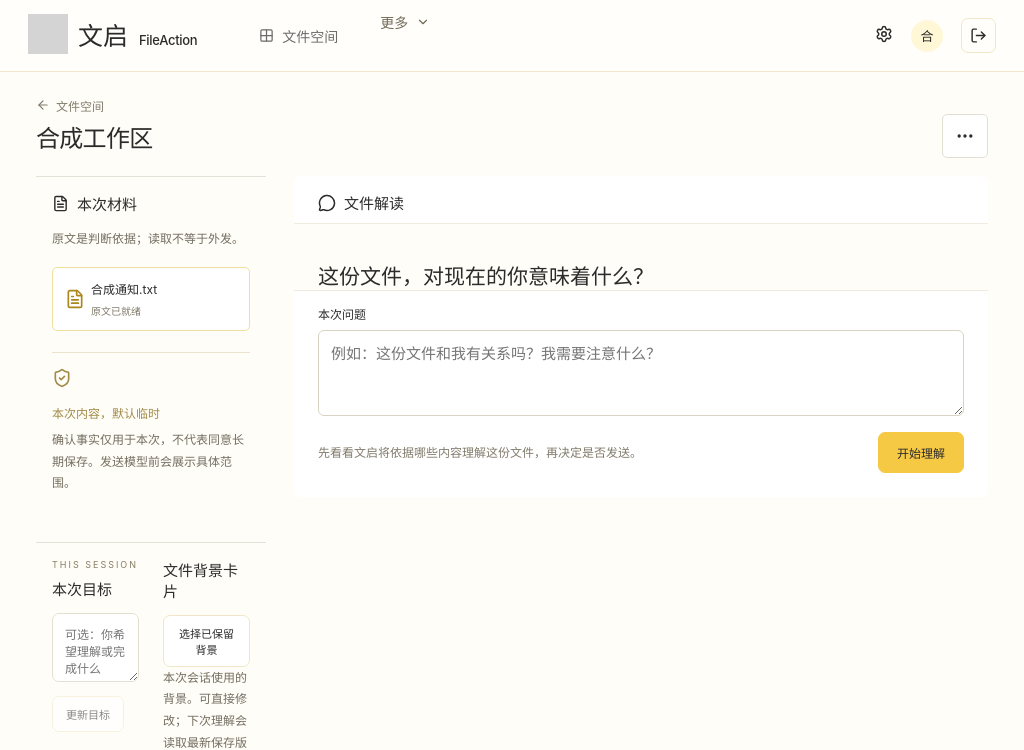
Test case: 真实阶段轮询完成后展示来源、推断、未知和待确认建议，不自动写入
The image size is (1024, 750).
Type "合成运行问题" into the text box labelled "本次问题". click: (641, 373)
box: [318,330,964,416]
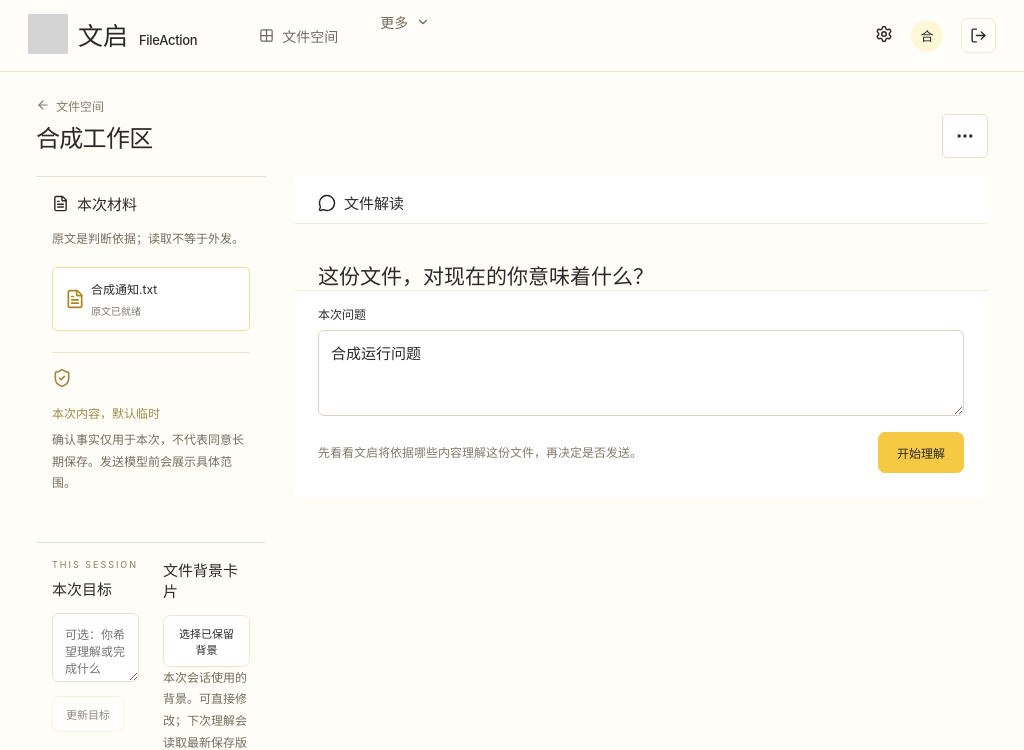
Click the button with aria-label "预览外发内容". click: click(921, 453)
box: [878,432,964,473]
(page scrolled)
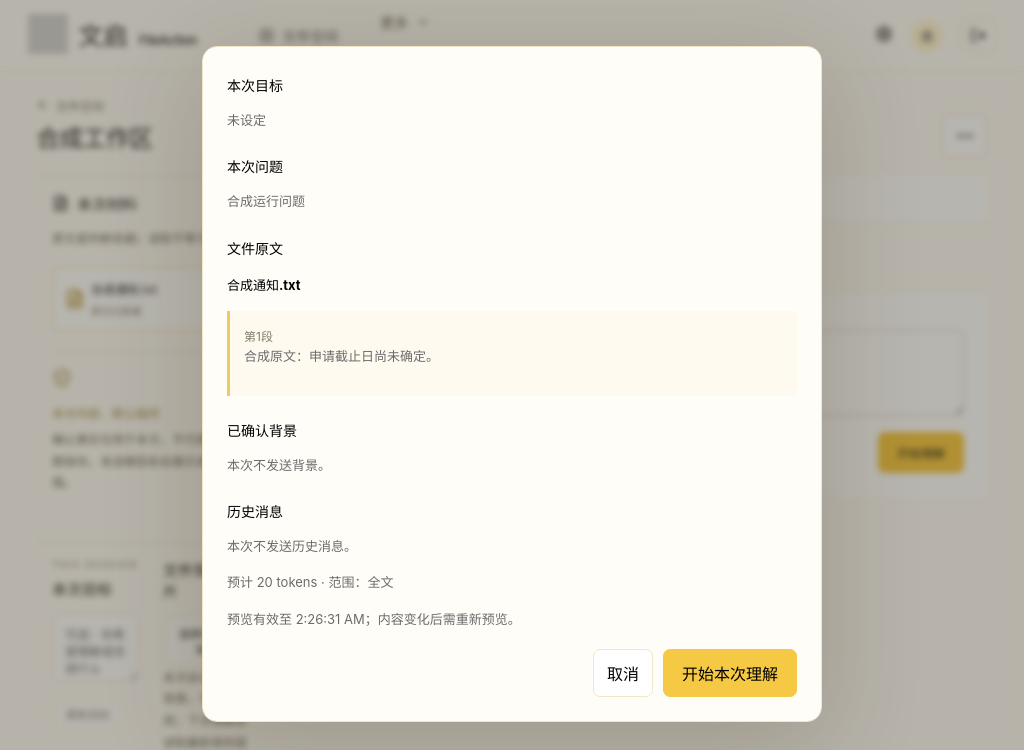
Click the button "开始本次理解". click: click(730, 673)
box: [663,649,797,697]
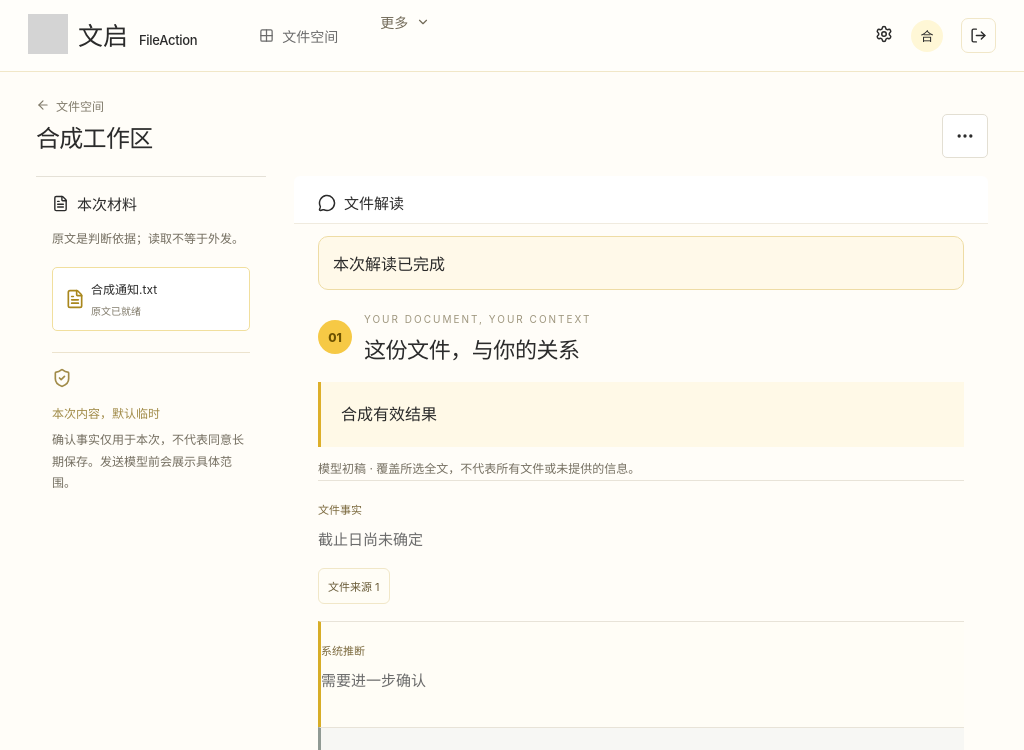
Expected: the text "合成有效结果" is shown, [318,382,964,447]
Expected: the text "系统推断" is shown, [321,644,365,658]
Click the button with aria-label "查看来源 c1-1". click: click(354, 586)
box: [318,568,390,604]
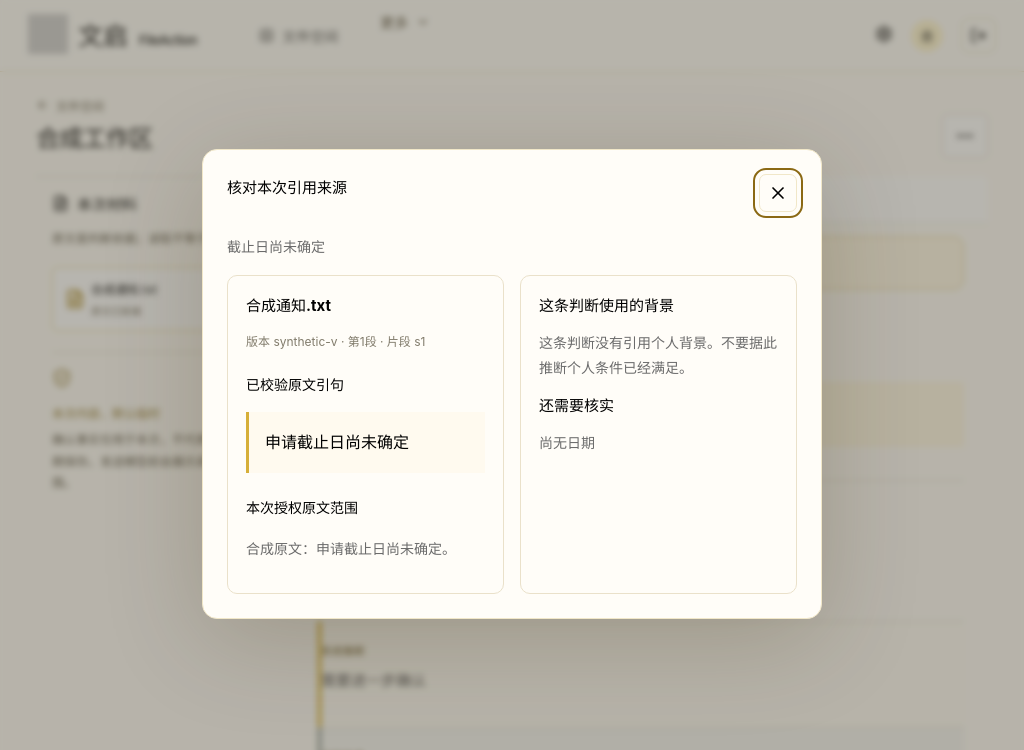
Expected: the dialog shows "申请截止日尚未确定", [265,432,409,452]
Expected: the dialog shows "第1段", [348,334,377,349]
